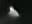person: (10, 6, 21, 21)
